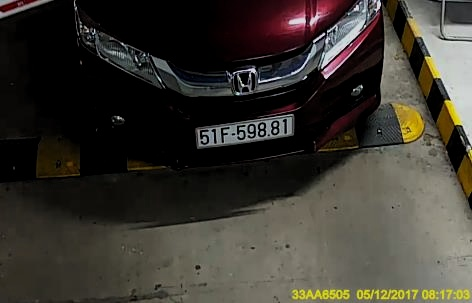plate: (192, 116, 295, 149)
